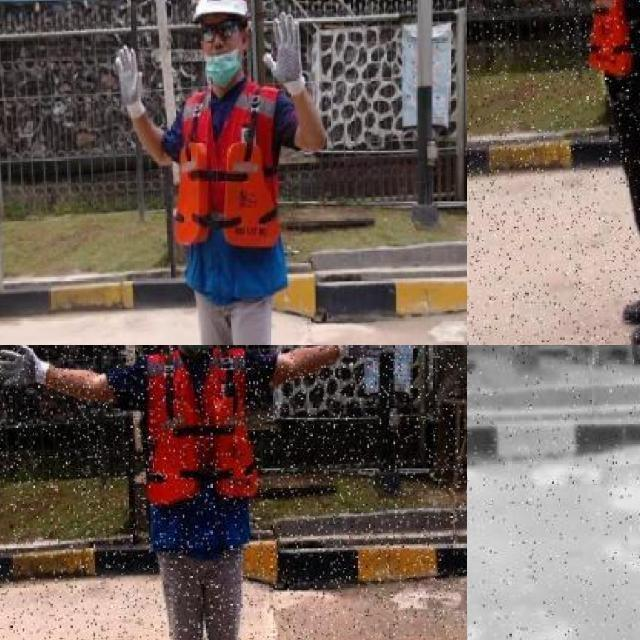apron: (258, 8, 306, 96), (109, 39, 146, 124), (0, 345, 50, 394), (336, 345, 387, 364)
